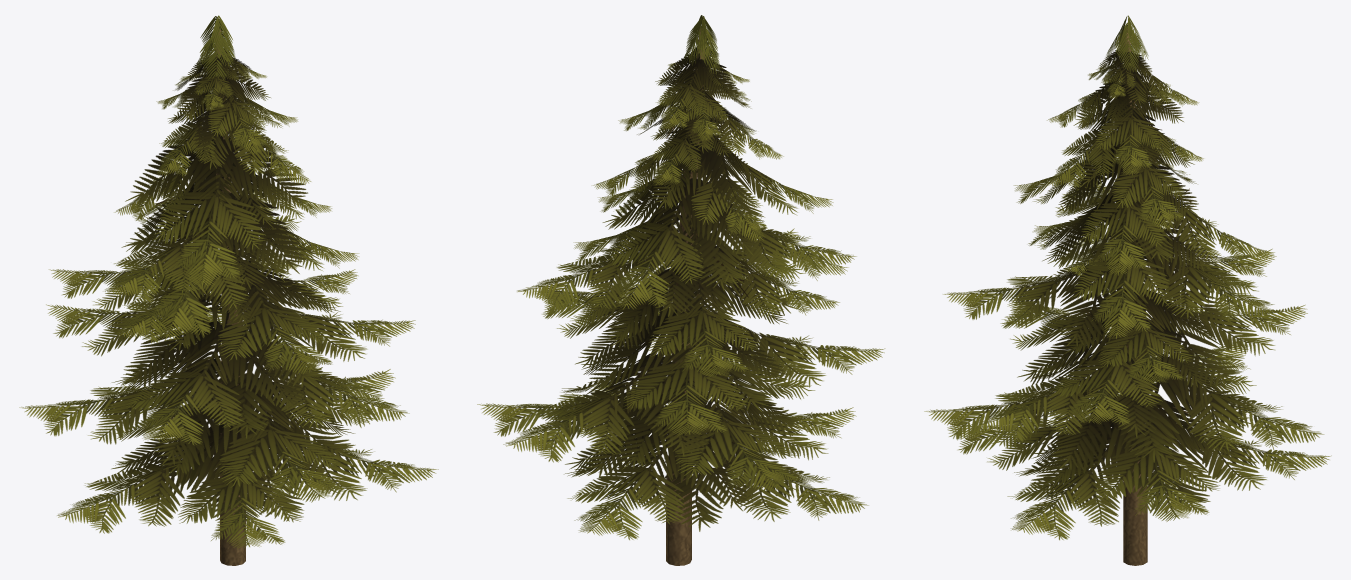
Rendered from pine_tree-transformed.glb.
3 renders of one model, left to right at view 1: azimuth 30°, elevation 25°; view 2: azimuth 150°, elevation 25°; view 3: azimuth 270°, elevation 25°, orthographic. The views are drawn at different scales.
Parts seen in each view (by area): view 1: Leaves/001, Trank.001; view 2: Leaves/001, Trank.001; view 3: Leaves/001, Trank.001.
Boxes of the visible parts, bbox=[...] form: Leaves/001: bbox=[19, 15, 438, 548]; Trank.001: bbox=[214, 29, 245, 565]; Leaves/001: bbox=[477, 15, 885, 540]; Trank.001: bbox=[666, 28, 705, 565]; Leaves/001: bbox=[924, 15, 1331, 540]; Trank.001: bbox=[1121, 28, 1147, 565].
Bounding box in the file's own units: 217 × 308 × 217.
Materials: 2 (2 with a texture image).
